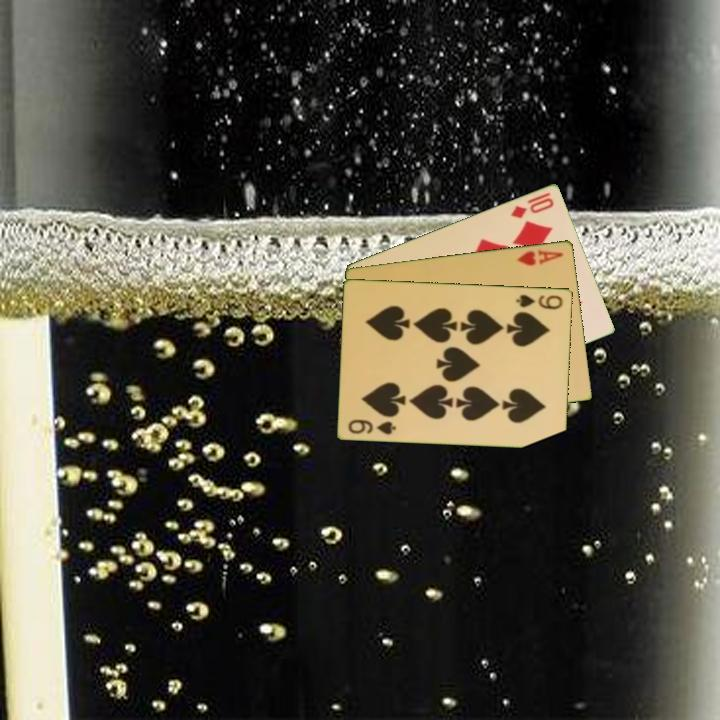10d: (507, 194, 557, 221)
9s: (345, 416, 399, 437), (513, 291, 566, 312)
Ah: (514, 245, 566, 268)
